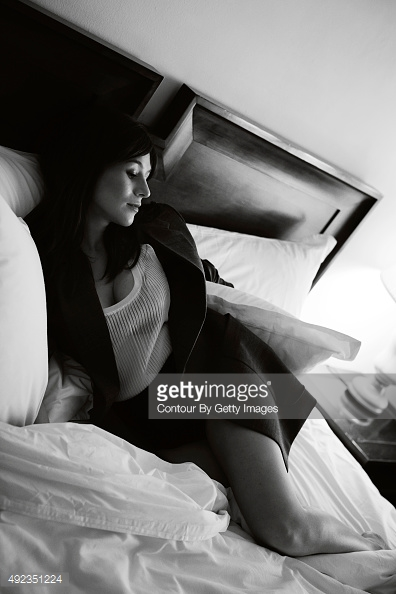deitado: (27, 106, 372, 565)
